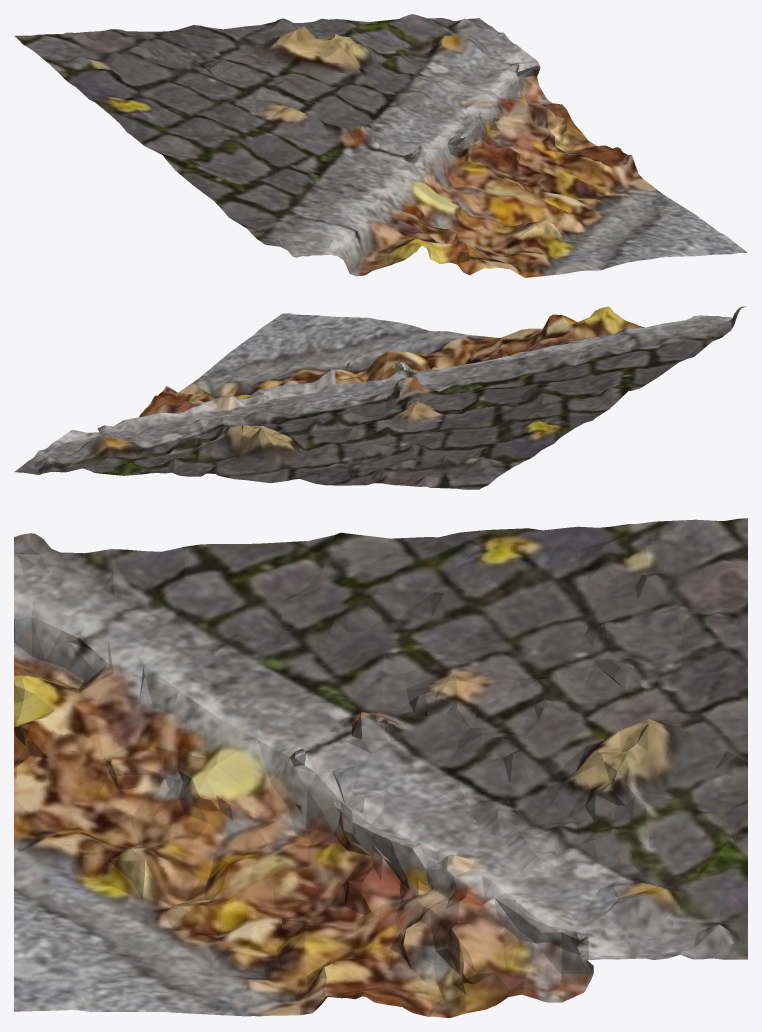
3 renders of one model, top to bottom at view 1: azimuth 30°, elevation 25°; view 2: azimuth 150°, elevation 25°; view 3: azimuth 270°, elevation 25°, orthographic. The views are drawn at different scales.
Size of the model in its own units: 0.8374 by 0.2386 by 0.8373.
3 materials, 3 textured.
